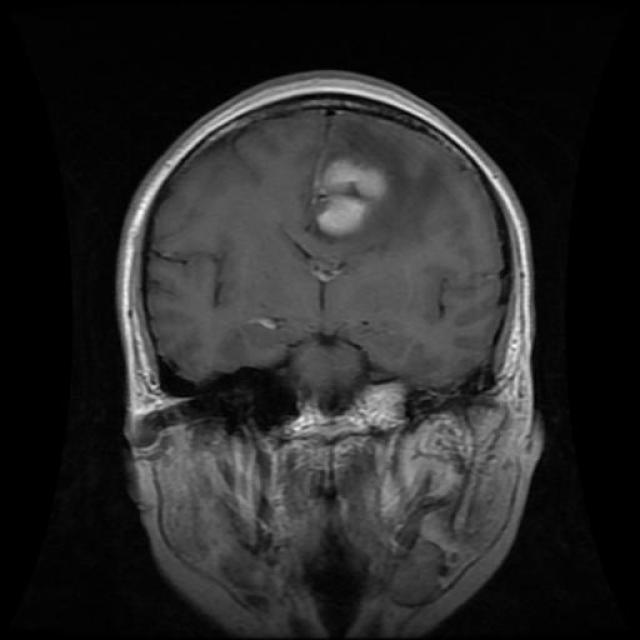meningioma: (316, 154, 385, 238)
